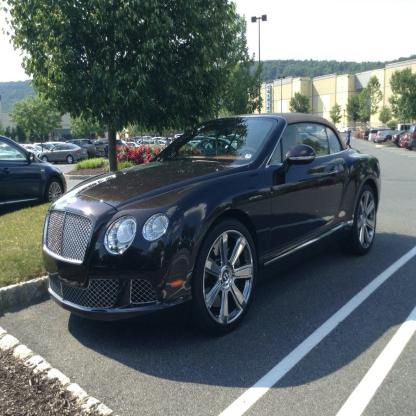Car: (42, 115, 383, 333), (1, 135, 241, 215), (361, 124, 416, 151), (340, 126, 355, 135)
